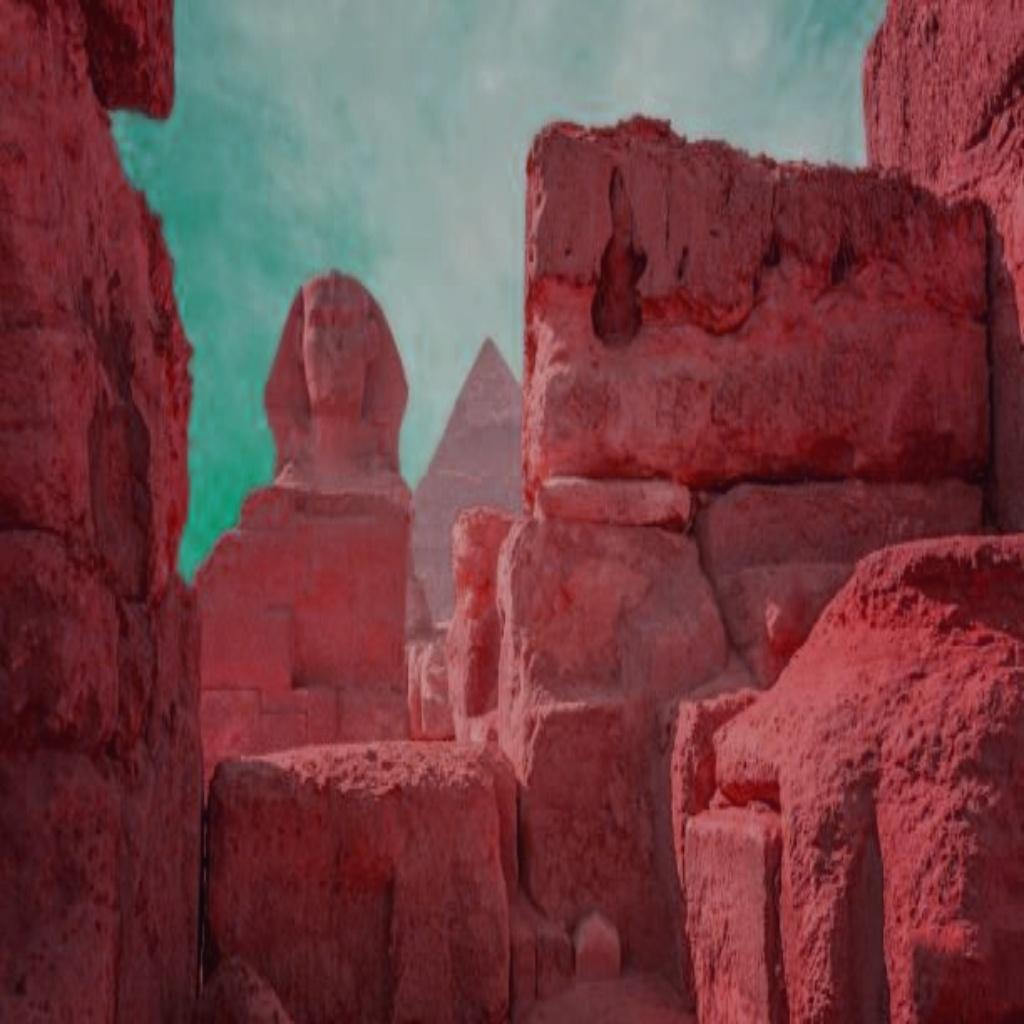Sphinx: (189, 262, 435, 780)
